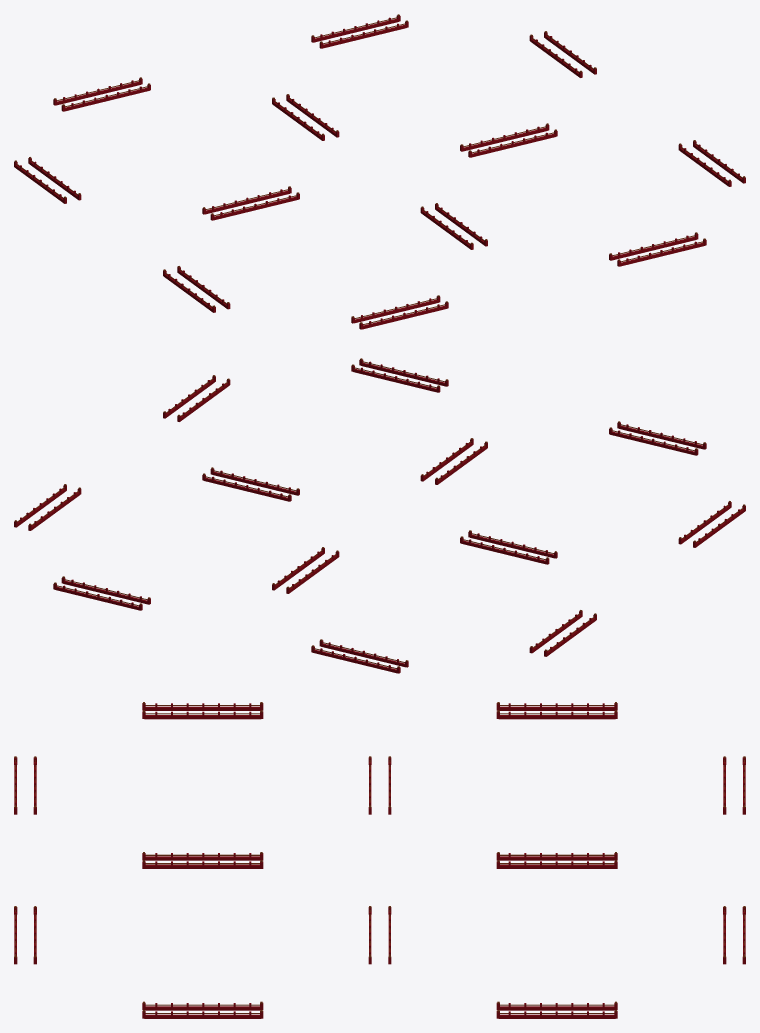
File: Bridge-Model.glb
3 views of the same model, one above another, from view 1: azimuth 30°, elevation 25°; view 2: azimuth 150°, elevation 25°; view 3: azimuth 270°, elevation 25° (orthographic). The views are drawn at different scales.
Visible parts, largest first — view 1: Cube.764, Cube.457, Cube.035, Cube.766, Cube.450, Cube.459, Cube.765, Cube.458; view 2: Cube.764, Cube.457, Cube.035, Cube.766, Cube.450, Cube.459, Cube.765, Cube.458; view 3: Cube.457, Cube.450, Cube.459, Cube.452, Cube.764, Cube.458, Cube.765, Cube.456.
Part boxes in pixels (x1,y1,x2,y2): Cube.764: (57, 18, 703, 329); Cube.457: (15, 36, 742, 311); Cube.035: (205, 127, 555, 220); Cube.766: (57, 17, 703, 324); Cube.450: (273, 98, 484, 249); Cube.459: (16, 34, 742, 307); Cube.765: (63, 17, 696, 324); Cube.458: (20, 36, 739, 306); Cube.764: (56, 362, 702, 673); Cube.457: (17, 380, 744, 655); Cube.035: (204, 471, 554, 564); Cube.766: (56, 361, 702, 668); Cube.450: (275, 442, 486, 593); Cube.459: (17, 378, 743, 651); Cube.765: (63, 361, 696, 668); Cube.458: (20, 380, 739, 650); Cube.457: (144, 706, 615, 1018); Cube.450: (145, 856, 614, 868); Cube.459: (145, 705, 614, 1013); Cube.452: (145, 854, 614, 864); Cube.764: (14, 762, 745, 956); Cube.458: (155, 703, 604, 1015); Cube.765: (14, 762, 745, 955); Cube.456: (142, 702, 617, 1018).
Size of the model in its own units: 101 by 1.2 by 101.
